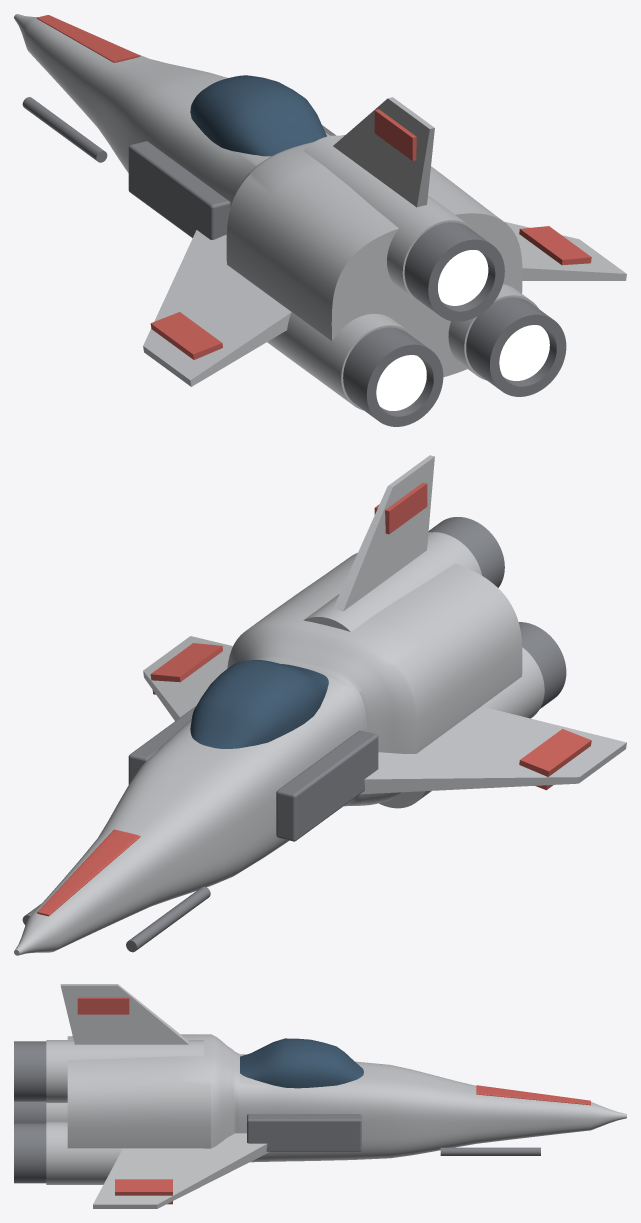
File: sardine.glb
3 renders of one model, top to bottom at view 1: azimuth 30°, elevation 25°; view 2: azimuth 150°, elevation 25°; view 3: azimuth 270°, elevation 25°, orthographic. The views are drawn at different scales.
Visible parts, largest first — view 1: sardine_hull; view 2: sardine_hull; view 3: sardine_hull.
Boxes of the visible parts, x1,y1,x2,y2 form: sardine_hull: (14,14,626,426); sardine_hull: (14,455,626,955); sardine_hull: (14,984,626,1208).
Bounding box in the file's own units: 4.79 × 2.73 × 8.55.
